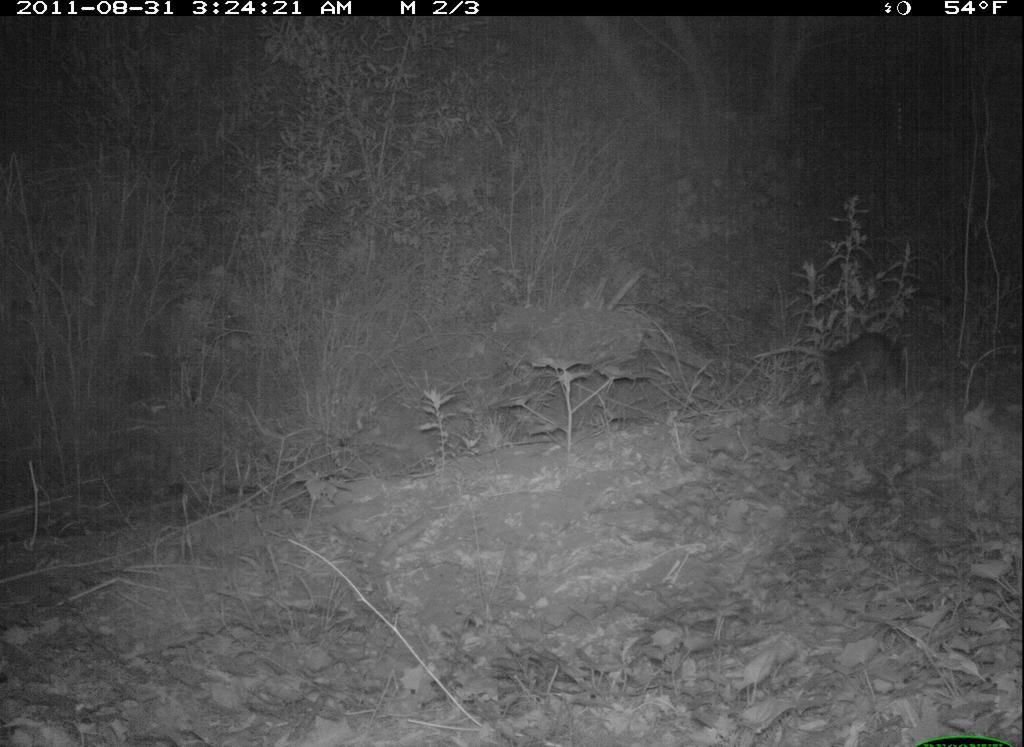opossum: (806, 314, 922, 423)
